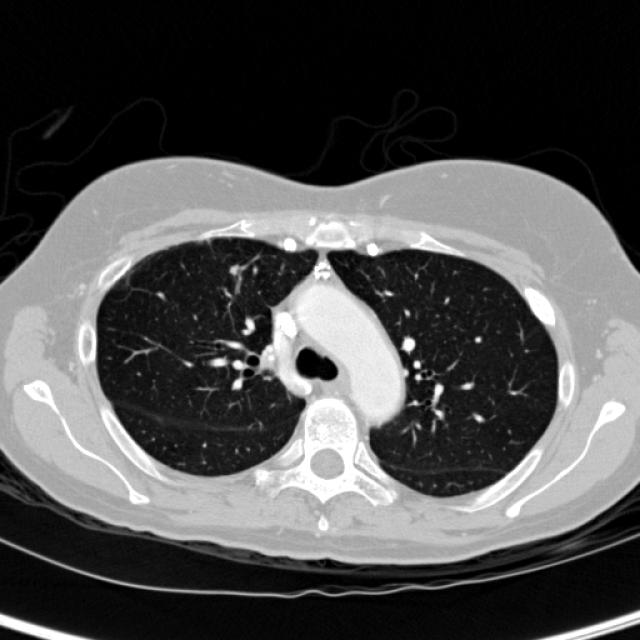nodule: (221, 258, 244, 280)
